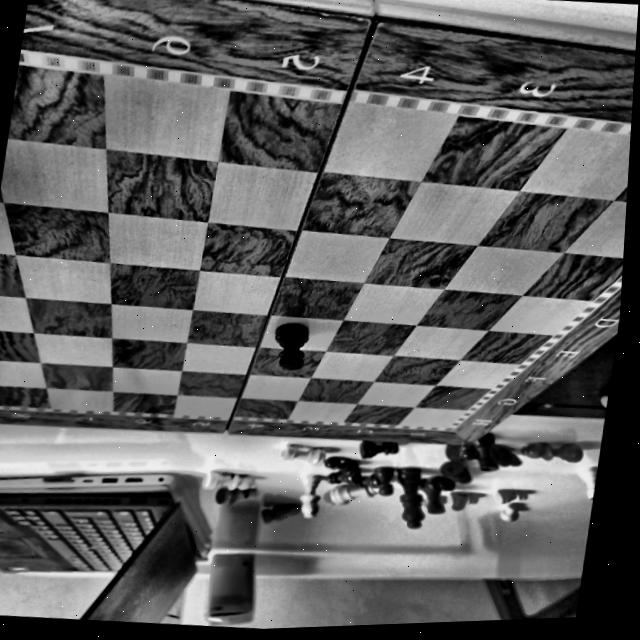black-pawn: (266, 313, 319, 377)
